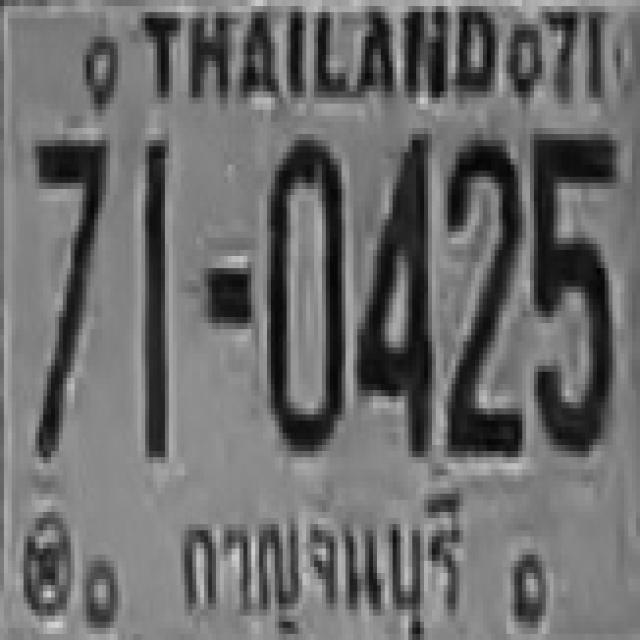0: (265, 137, 344, 448)
1: (141, 137, 165, 442)
2: (446, 134, 520, 445), (444, 134, 518, 421)
4: (351, 131, 430, 448)
5: (530, 128, 613, 445)
7: (31, 134, 106, 445)
Kanchanaburi: (170, 482, 482, 636)
